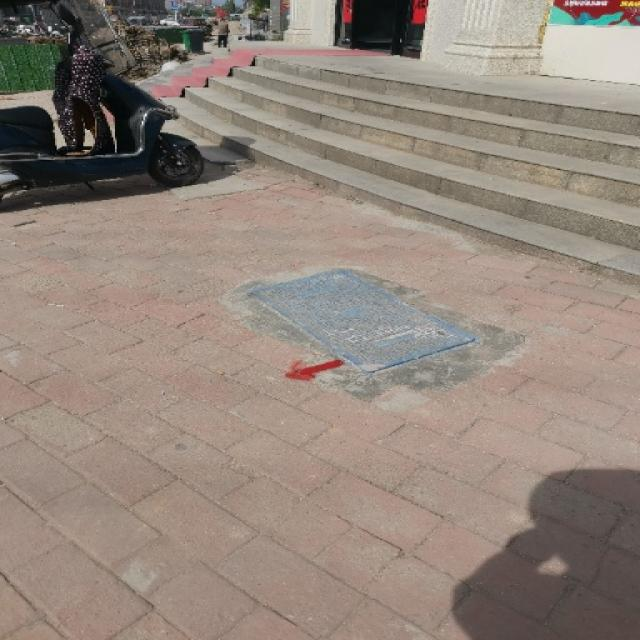Good: (242, 268, 501, 394)
